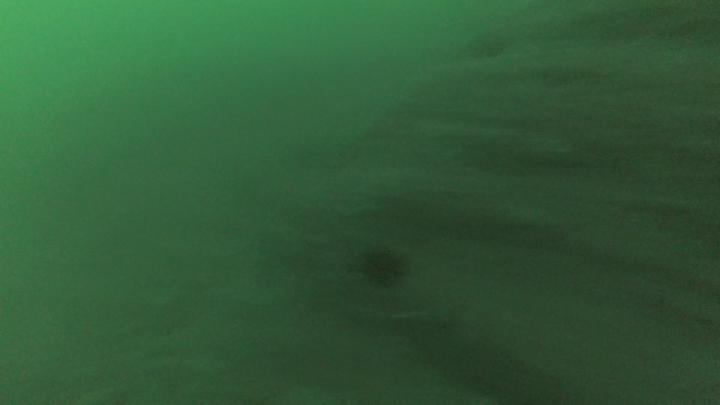echinus: (355, 242, 405, 293)
